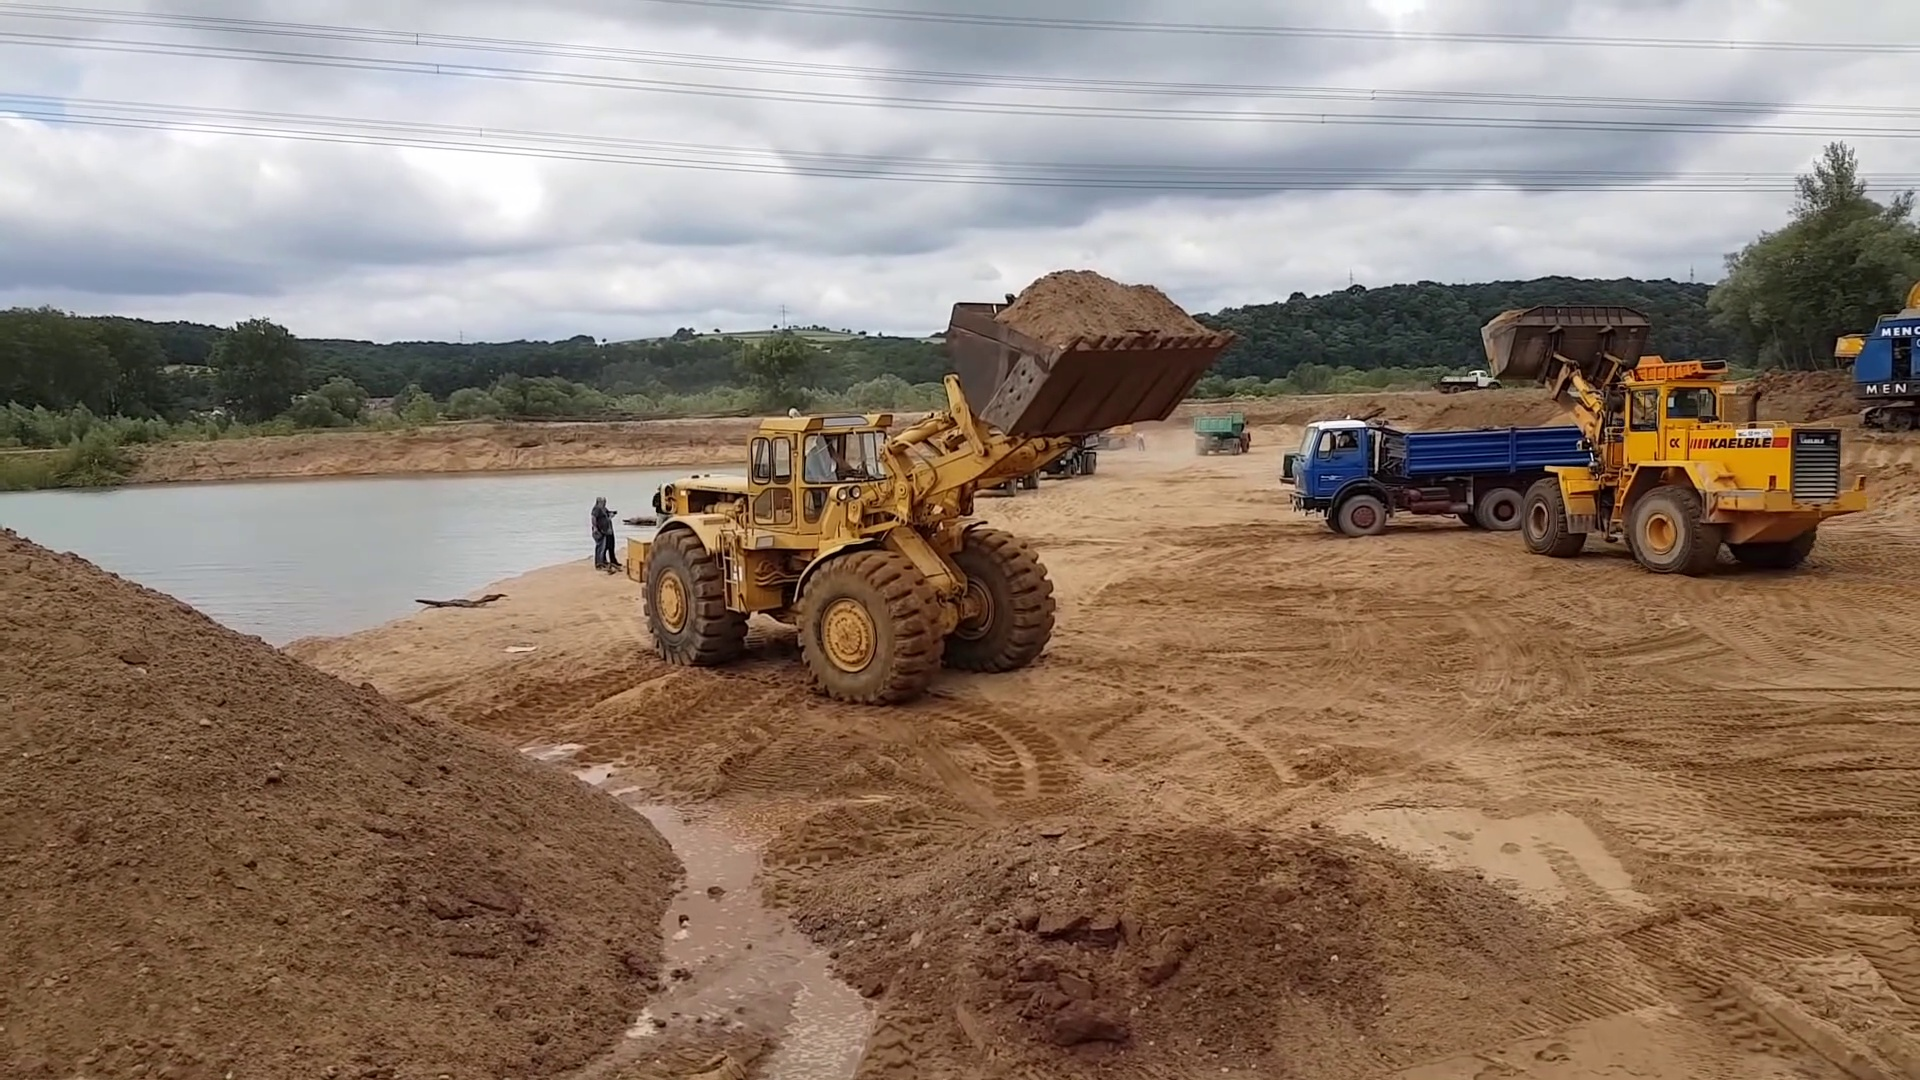dumper: (1196, 414, 1255, 455)
person: (587, 494, 625, 572)
truck: (1285, 414, 1610, 541), (1438, 367, 1509, 394)
wheel loader: (624, 290, 1241, 708), (1478, 299, 1878, 573)
